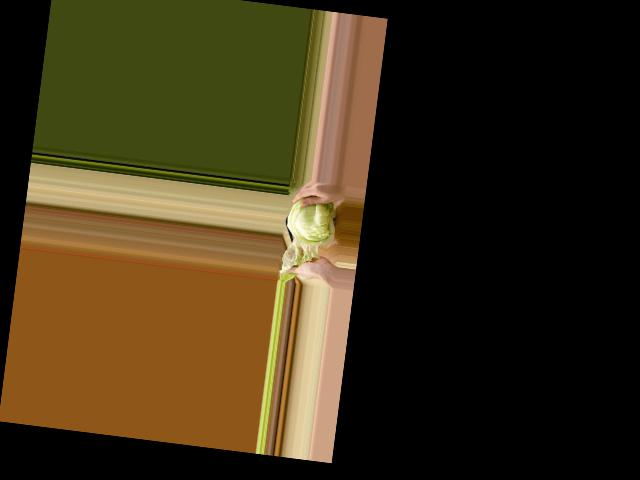lettuce: (281, 192, 342, 259)
